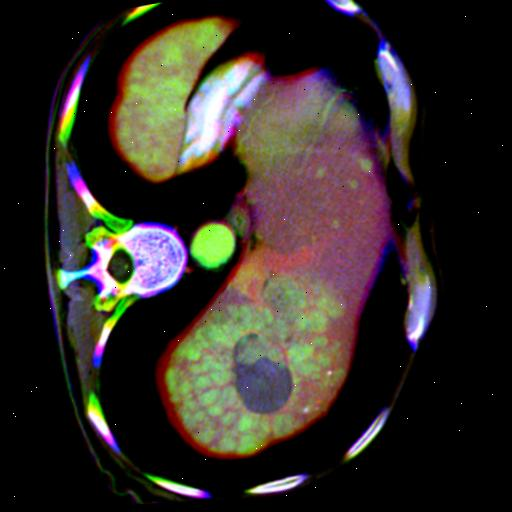Tumor: (236, 337, 293, 418)
